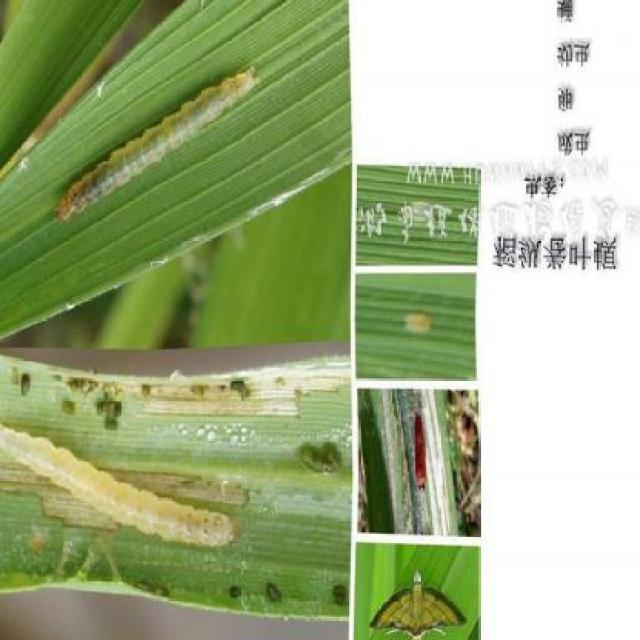leaf-folder: (15, 415, 248, 568), (57, 50, 266, 218), (402, 398, 438, 510), (395, 280, 447, 335)
